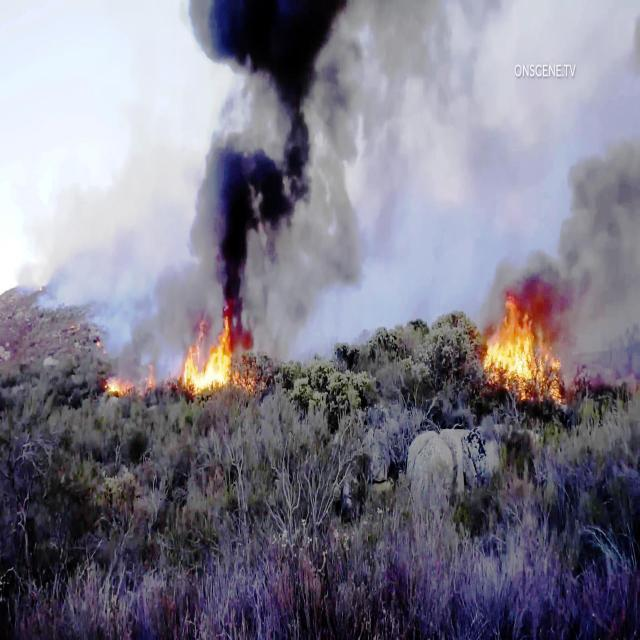Fire: (482, 280, 557, 420), (182, 323, 236, 413), (100, 358, 163, 402)
Smoke: (193, 0, 640, 284), (50, 96, 184, 348)
